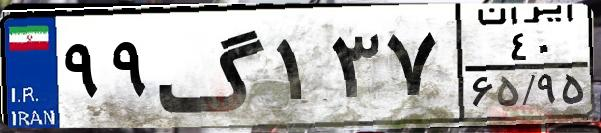0: (537, 27, 568, 80)
1: (270, 28, 330, 110)
3: (330, 28, 385, 110)
4: (508, 27, 537, 80)
5: (560, 70, 590, 125), (495, 70, 520, 125)
6: (470, 70, 495, 125)
7: (385, 28, 445, 110)
9: (57, 26, 110, 100), (110, 28, 156, 98), (535, 70, 560, 125)
گ: (156, 12, 270, 120)
